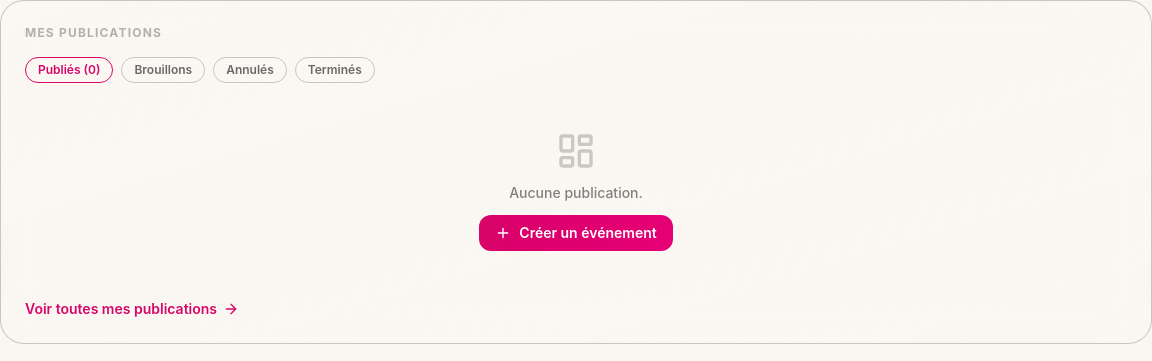
Test case: MyPublicationsPreview › does not show the create CTA on the empty Brouillons tab
Click the tab "Brouillons" at (163, 70), box [122,57,205,83]
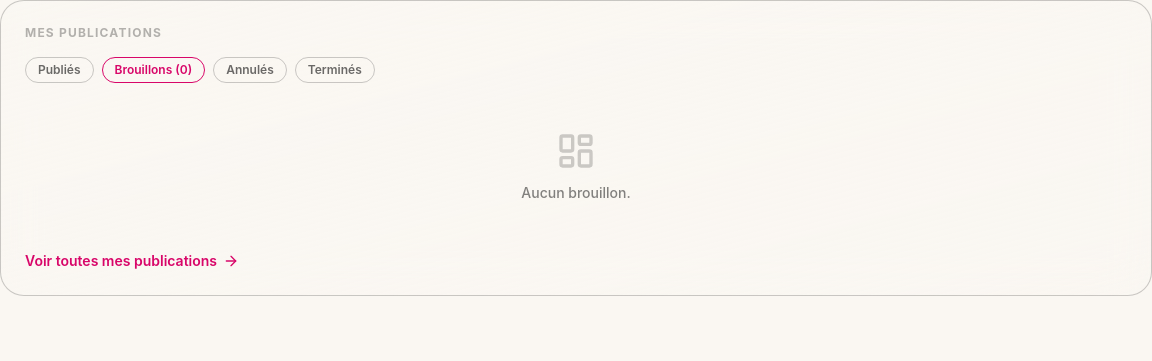
Expected: the text "Aucun brouillon." is shown, [521,183,631,203]
Expected: the link "Créer un événement" is gone
